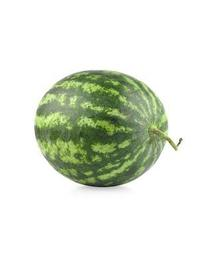watermelon: (36, 68, 171, 189)
